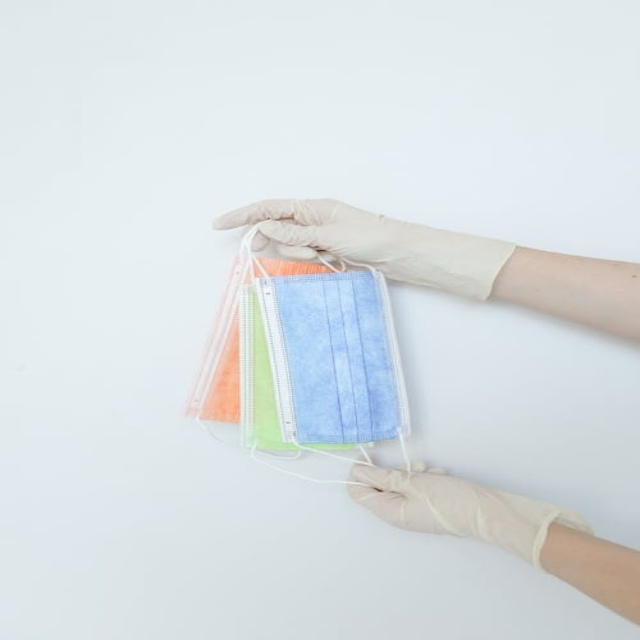Guantes: (216, 197, 515, 301), (348, 460, 598, 573)
